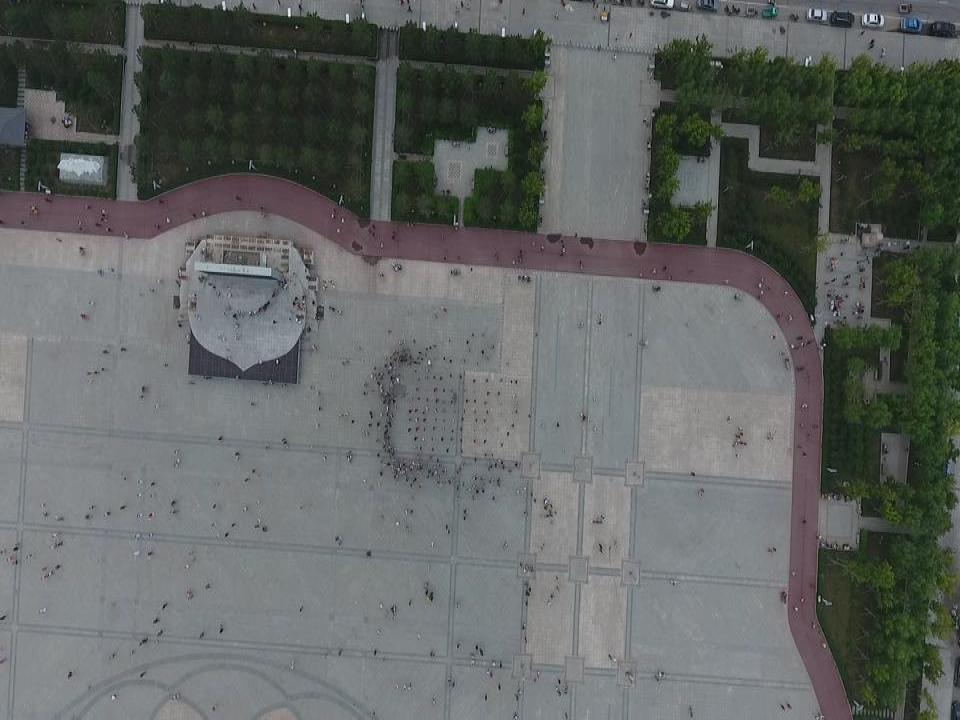car: (929, 20, 956, 37), (860, 11, 885, 29), (804, 5, 828, 23), (831, 9, 855, 27), (899, 16, 924, 33), (696, 0, 721, 13), (840, 249, 846, 259), (834, 237, 837, 244)
